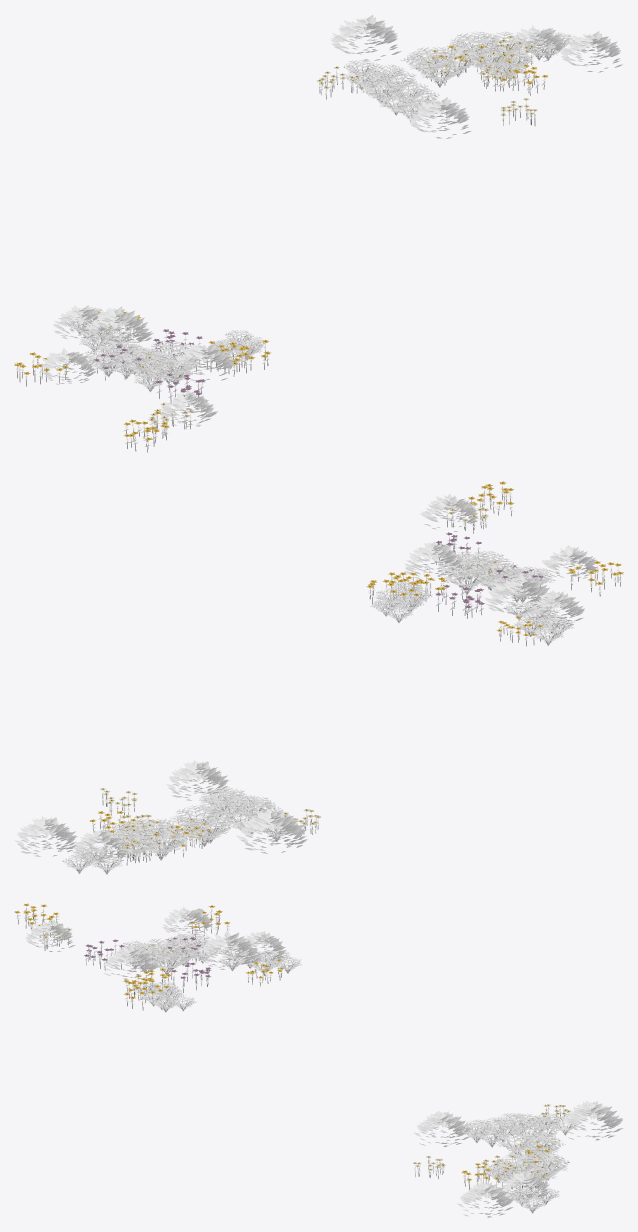
File: SM_DF_Explorer_1_2_Flora.fbx
The picture shows the model from 3 angles, top to bottom: view 1: azimuth 30°, elevation 25°; view 2: azimuth 210°, elevation 25°; view 3: azimuth 270°, elevation 25°; orthographic projection. The views are drawn at different scales.
Visible parts, largest first — view 1: SM_DF_Explorer_1_2_Flora; view 2: SM_DF_Explorer_1_2_Flora; view 3: SM_DF_Explorer_1_2_Flora.
Part boxes in pixels (x1,y1,x2,y2): SM_DF_Explorer_1_2_Flora: [14, 14, 622, 452]; SM_DF_Explorer_1_2_Flora: [14, 481, 623, 874]; SM_DF_Explorer_1_2_Flora: [14, 903, 623, 1217].
Size of the model in its own units: 2636 by 2094 by 232.
